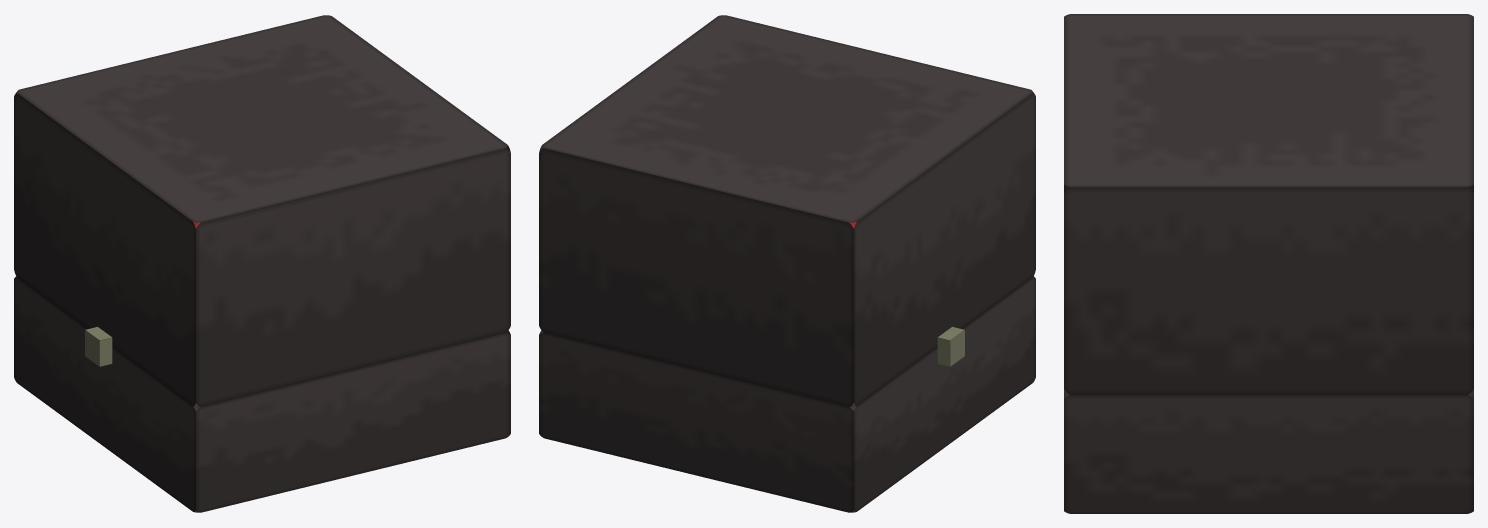
The model's file is Button.fbx.
3 renders of one model, left to right at view 1: azimuth 30°, elevation 25°; view 2: azimuth 150°, elevation 25°; view 3: azimuth 270°, elevation 25°, orthographic. The views are drawn at different scales.
Visible parts, largest first — view 1: Lid, Body, mesh; view 2: Lid, Body, mesh; view 3: Lid, Body.
Boxes of the visible parts, x1,y1,x2,y2 form: Lid: (14, 15, 510, 407); Body: (14, 276, 510, 512); mesh: (85, 326, 112, 366); Lid: (539, 15, 1035, 407); Body: (539, 276, 1035, 512); mesh: (937, 326, 964, 366); Lid: (1064, 14, 1473, 394); Body: (1064, 389, 1473, 513).
Size of the model in its own units: 162 by 138 by 156.
Materials: 1 (1 with a texture image).
